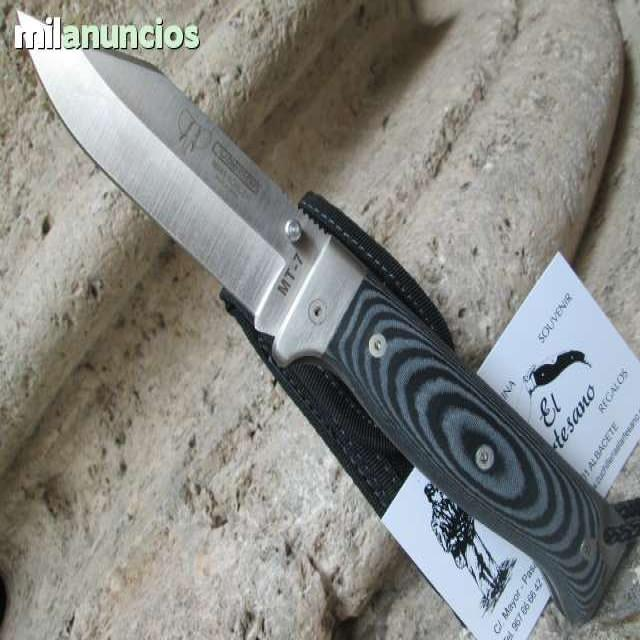knife: (15, 3, 640, 639)
